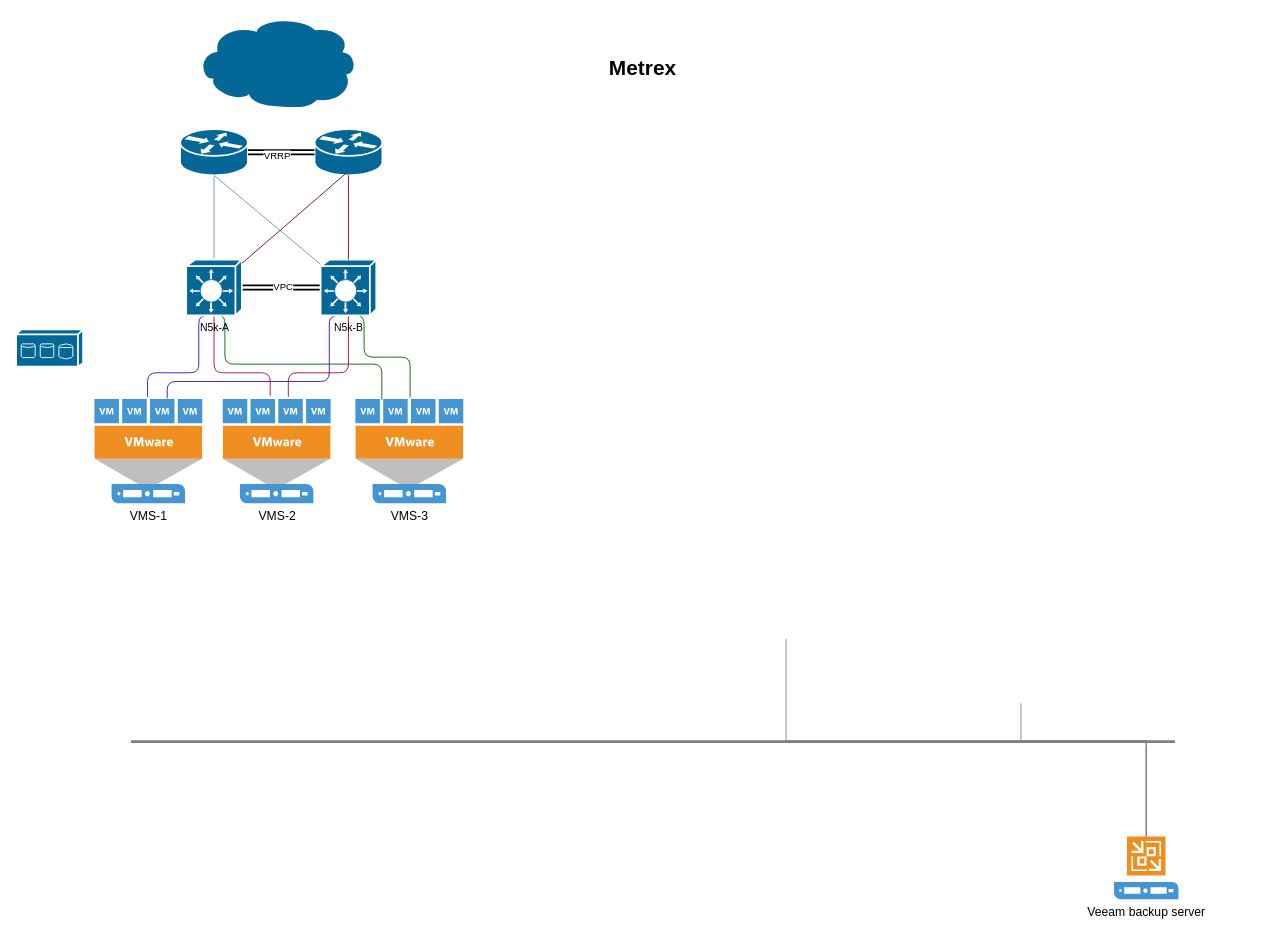
Some shapes in this 1275 by 934 pixel diagram are drawn without their labels. Each missing label, with the centre of its shape:
"Internet" goes at (x=276, y=62).
"ISR4331-1" goes at (x=213, y=152).
"ISR4331-2" goes at (x=348, y=152).
